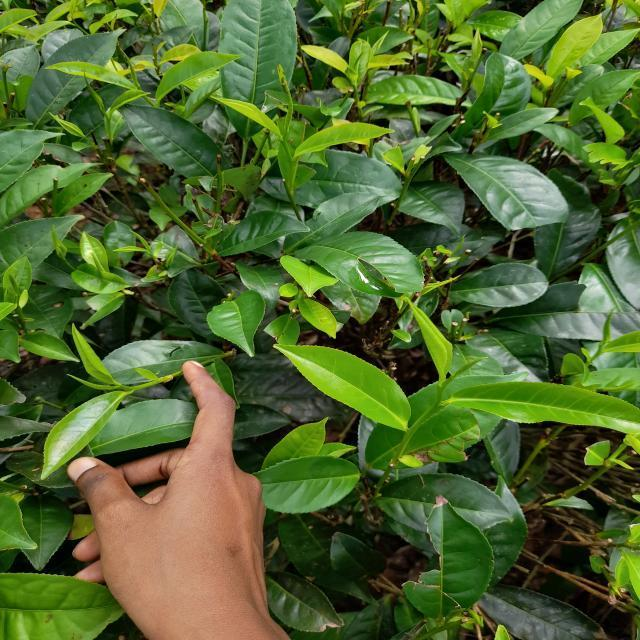Stem: (428, 406, 439, 416), (595, 350, 602, 356), (282, 140, 288, 147), (131, 386, 138, 391), (353, 85, 357, 89)
